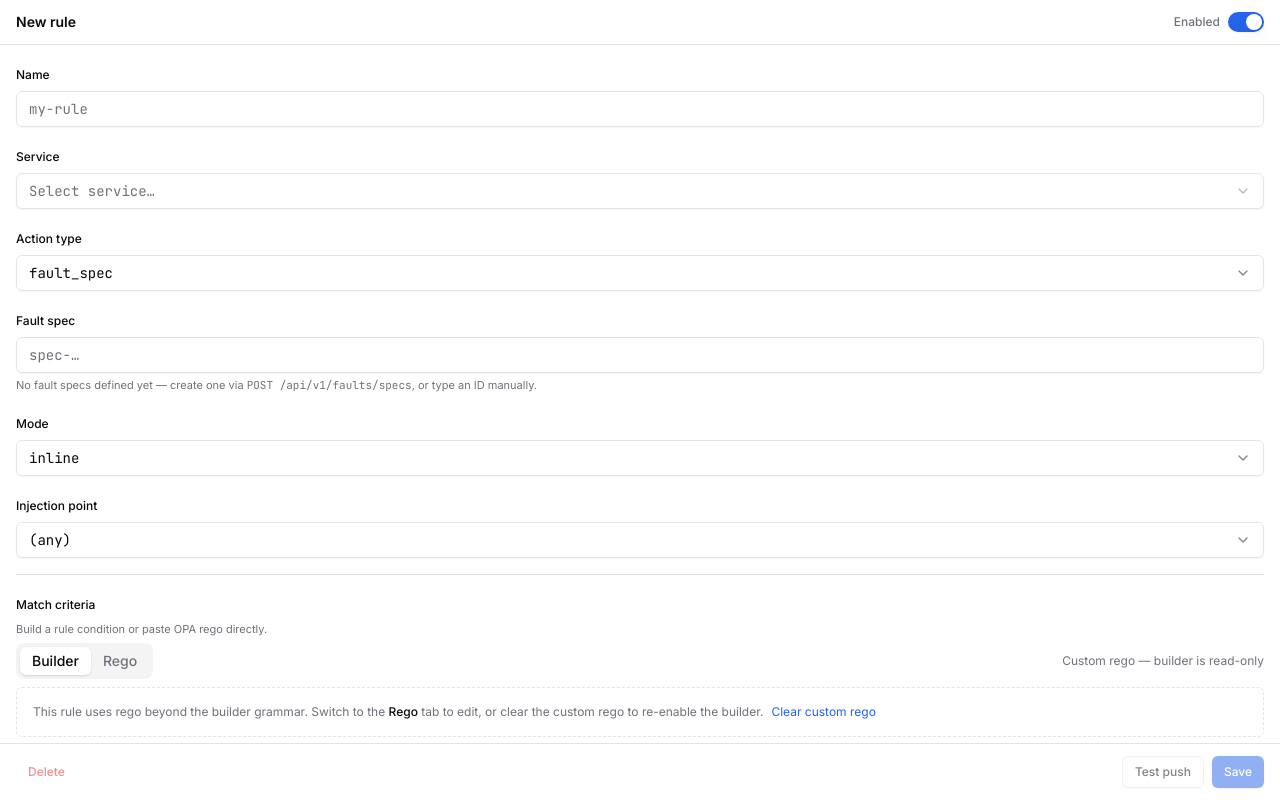
it: RuleEditorPanel — new rule › shows save error when API rejects
# Fill faultSpecId so the Save guard doesn't block the click.
Type "spec-x" into the field with placeholder "spec-…" at (640, 355), box [16,337,1264,373]
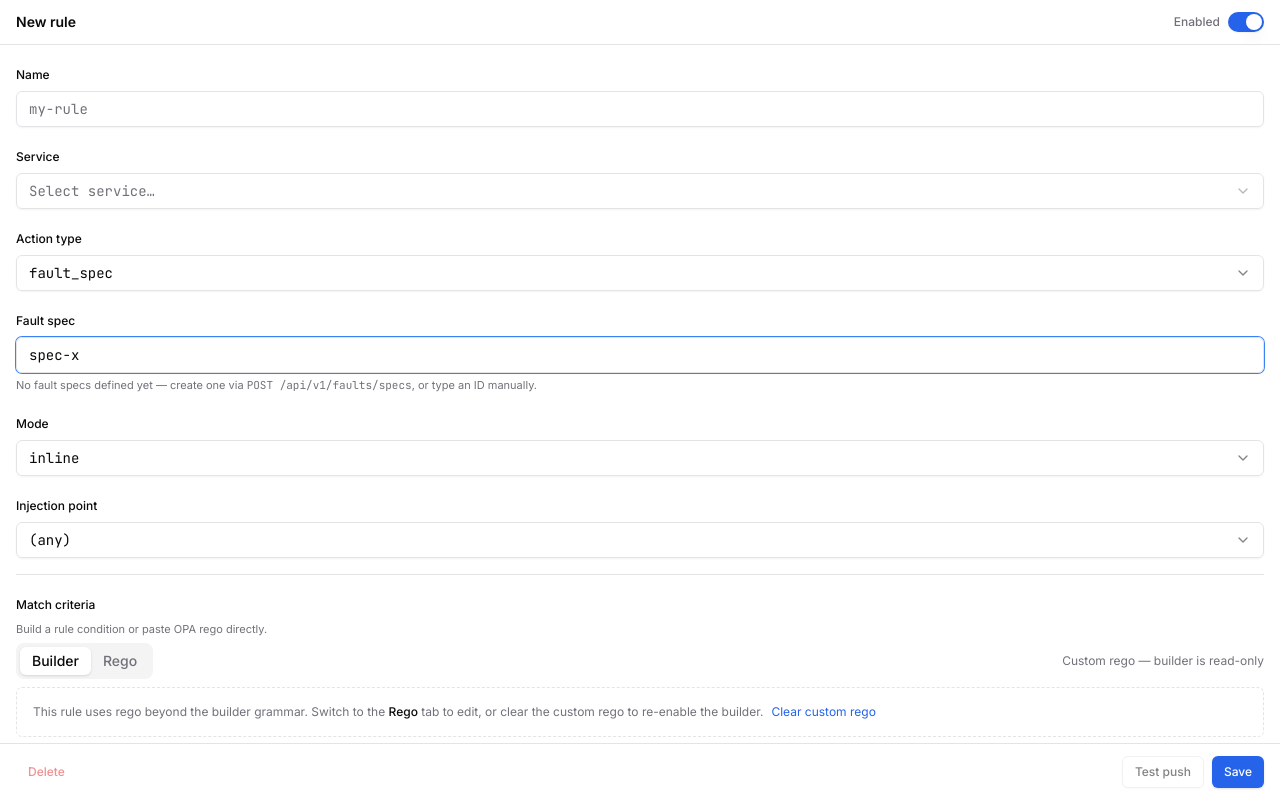
Click the button "Save" at (1238, 772), box [1212,756,1264,788]
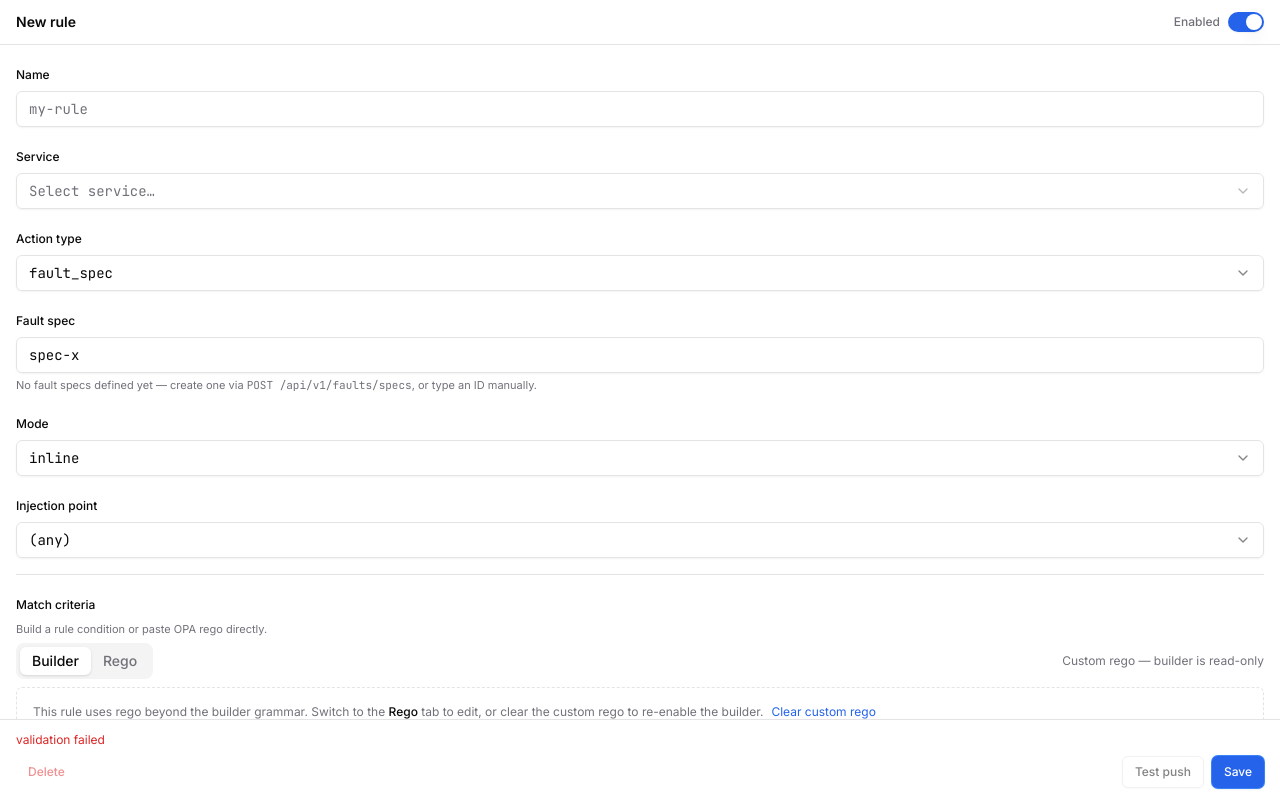
Expected: the text "validation failed" is shown, [16,732,105,747]
